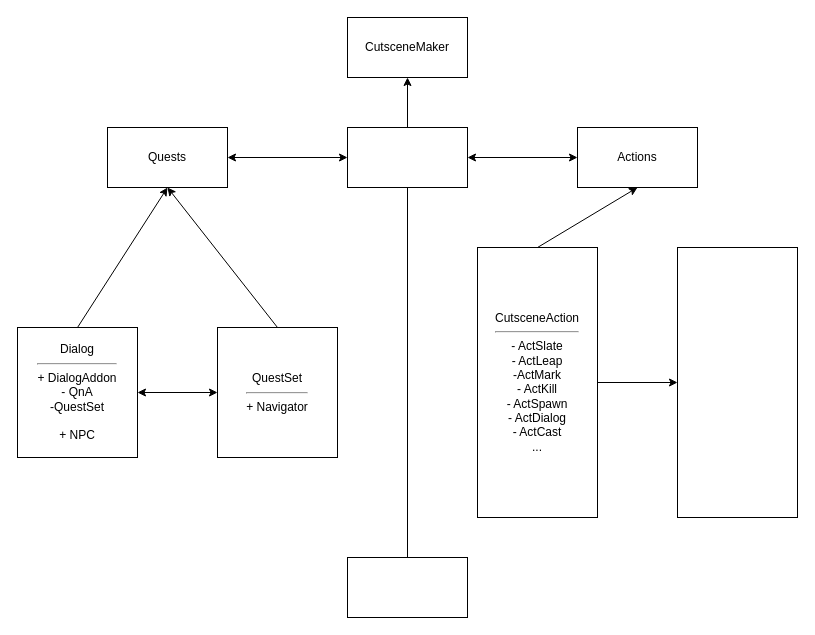
The diagram is 815 pixels wide and 635 high, and some of its shapes have lost their labels. The centre of each missing label's shape, as x and y in pixels:
ConditionBuilder: point 407,587
RepeatableAction - ActTeleport -ActMessage -ActCineatic ...: point 737,382
Utils: point 407,157
